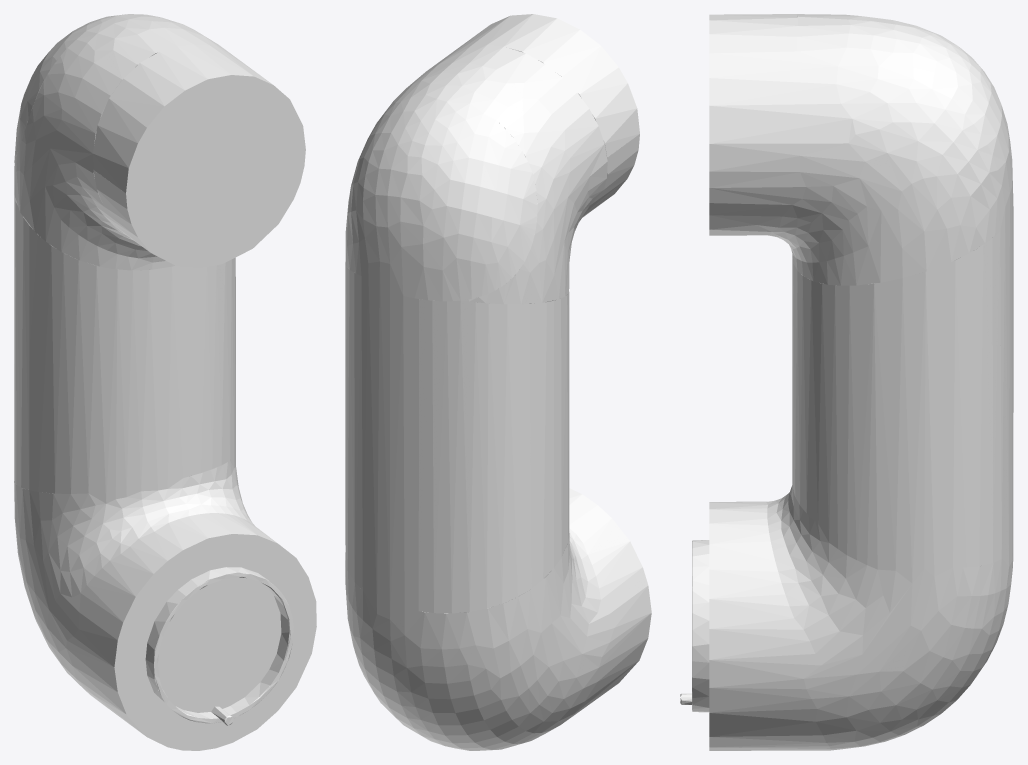
The picture shows the model from 3 angles, left to right: view 1: azimuth 30°, elevation 25°; view 2: azimuth 150°, elevation 25°; view 3: azimuth 270°, elevation 25°; orthographic projection. The views are drawn at different scales.
Visible parts, largest first — view 1: node; view 2: node; view 3: node.
Boxes of the visible parts, x1,y1,x2,y2 form: node: (14,14,316,750); node: (345,14,651,750); node: (680,14,1013,750).
Size of the model in its own units: 0.0432 by 0.1368 by 0.0578.
1 material, 1 textured.
